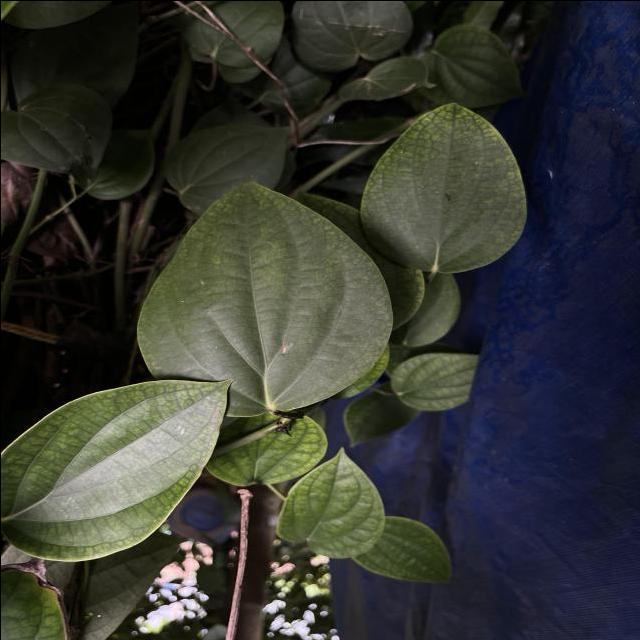Piper nigrum: (131, 178, 397, 418), (0, 372, 239, 564), (358, 98, 530, 278), (274, 444, 386, 562)
